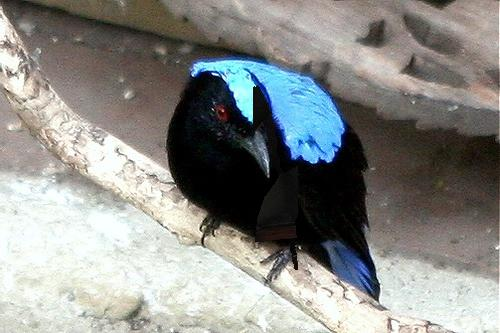tampered: (254, 86, 298, 270)
